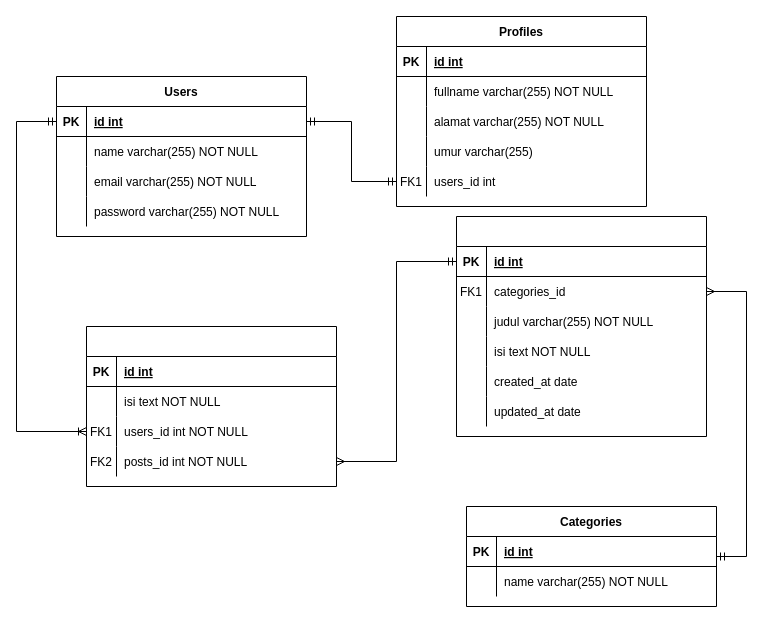
Image size: 763x623. Some labels were removed from this diagram. Each missing label, with the box of its shape:
Comments: (86, 326, 336, 486)
Posts: (456, 216, 706, 436)
